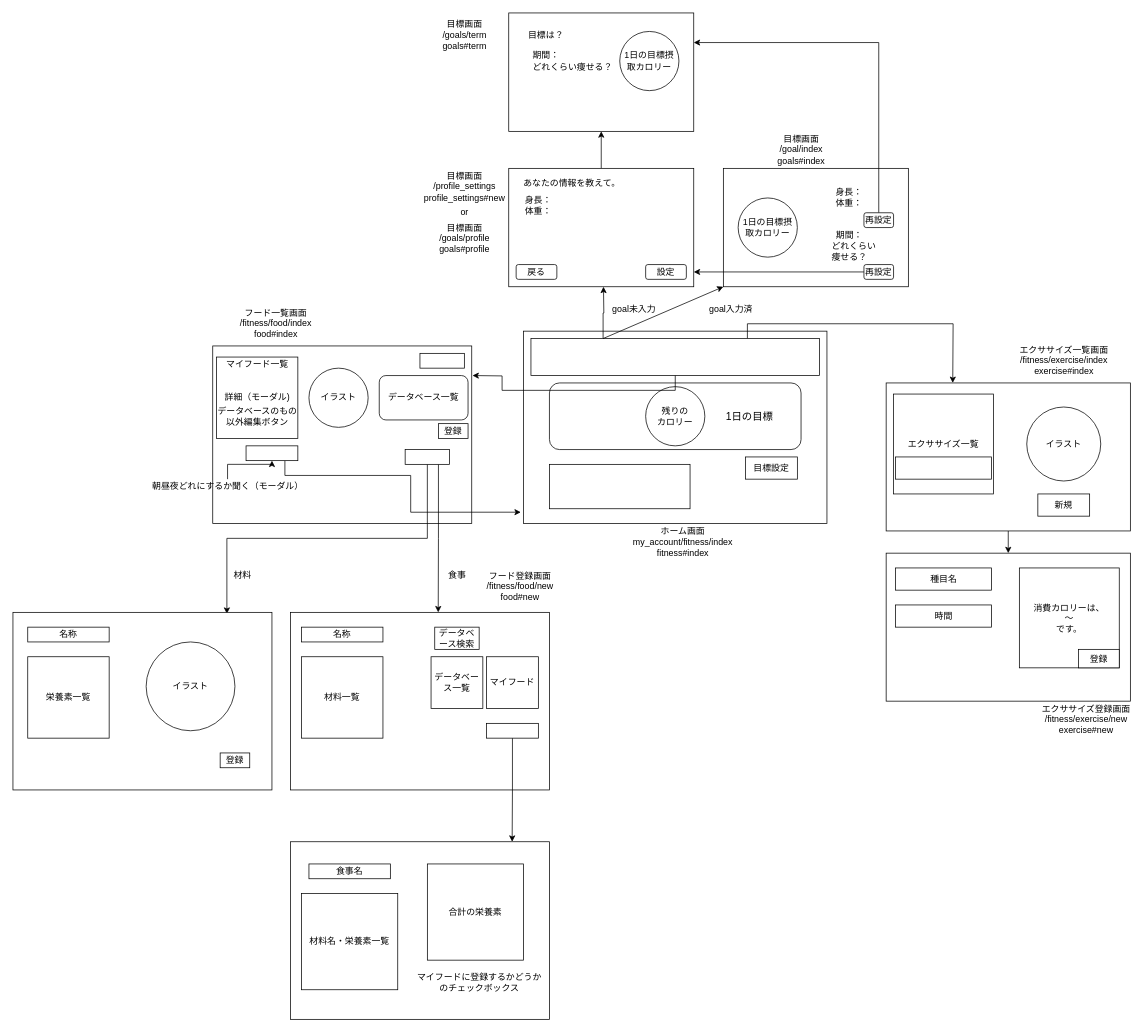
Image size: 1147x1032. Some labels were removed from this diagram. Each missing label, with the centre of its shape:
"ホーム、目標詳細、食事、エクササイズ、共有" goes at [675,357].
"新規作成" goes at [427,456].
"朝： 食事 昼： 食事 夜： 食事" goes at [619,486].
"材料追加" goes at [512,730].
"検索" goes at [441,360].
"種目、時間、カロリー" goes at [943,467].
"追加" goes at [271,453].
